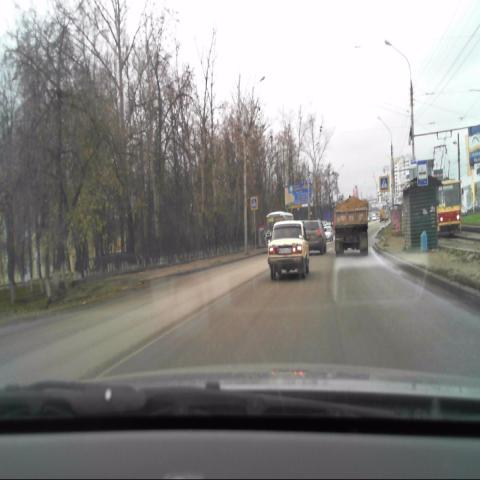5_17: (417, 160, 428, 184)
